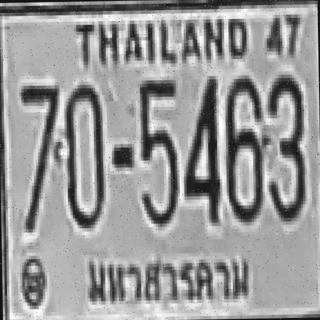N00: (64, 81, 104, 225)
N03: (264, 71, 304, 218)
N04: (182, 74, 218, 221)
N05: (137, 78, 178, 226)
N06: (222, 73, 263, 220)
N07: (19, 82, 59, 229), (20, 83, 60, 207), (19, 82, 58, 179)
P25: (81, 246, 252, 307)
